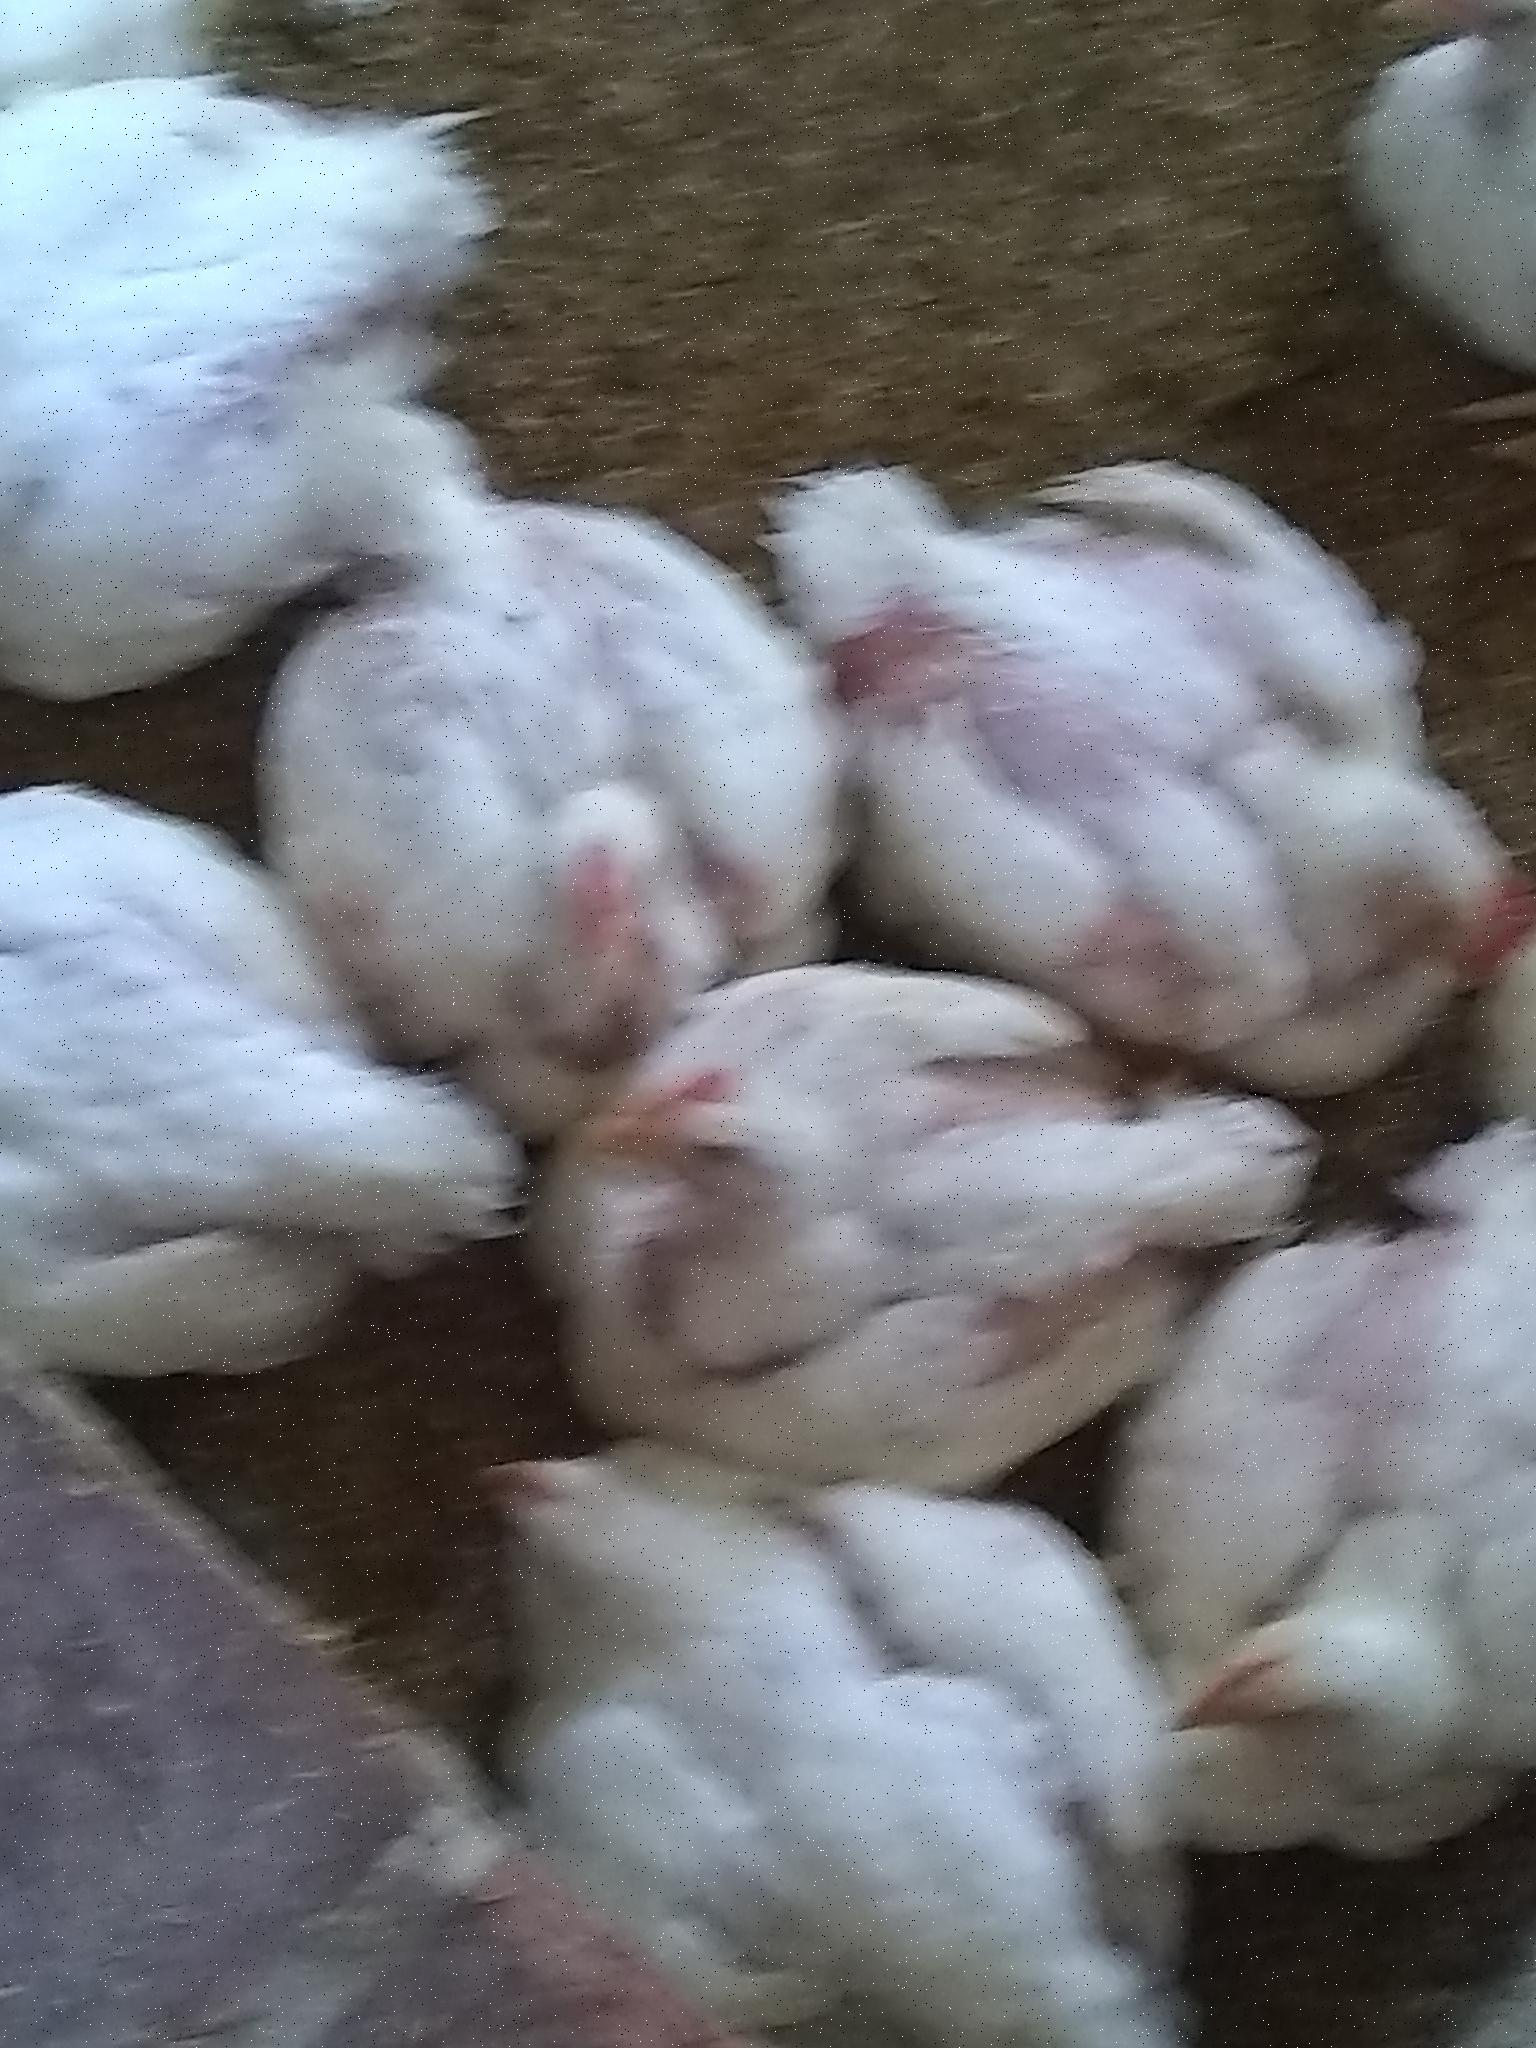Pollos: (742, 419, 1523, 1039), (455, 1429, 1204, 2048), (566, 968, 1294, 1474), (1087, 1119, 1536, 1834), (2, 764, 503, 1401), (324, 387, 803, 1037), (2, 82, 455, 692), (1362, 2, 1536, 455)
